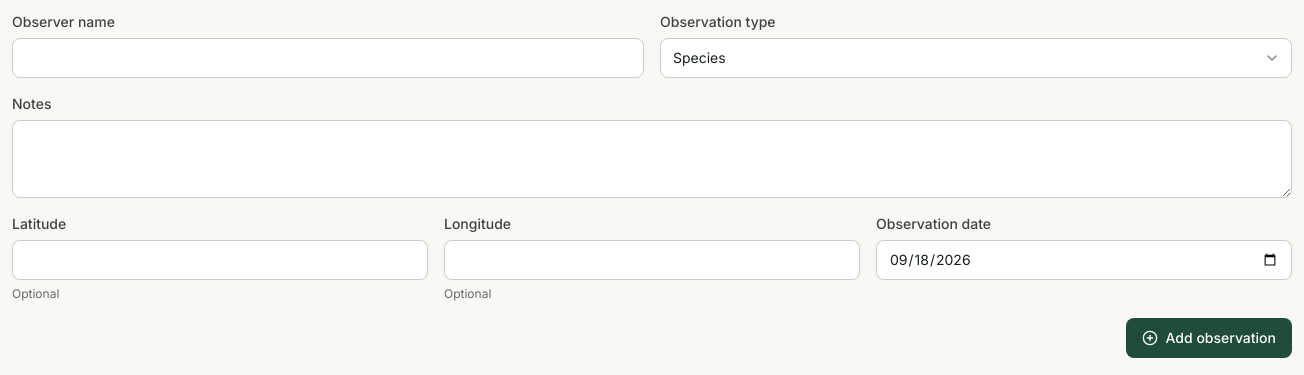
Scenario: ObservationForm validation › rejects an out-of-range latitude
Type "Aashritha" into the field labelled "Observer name" at (328, 58), box [12, 38, 644, 78]
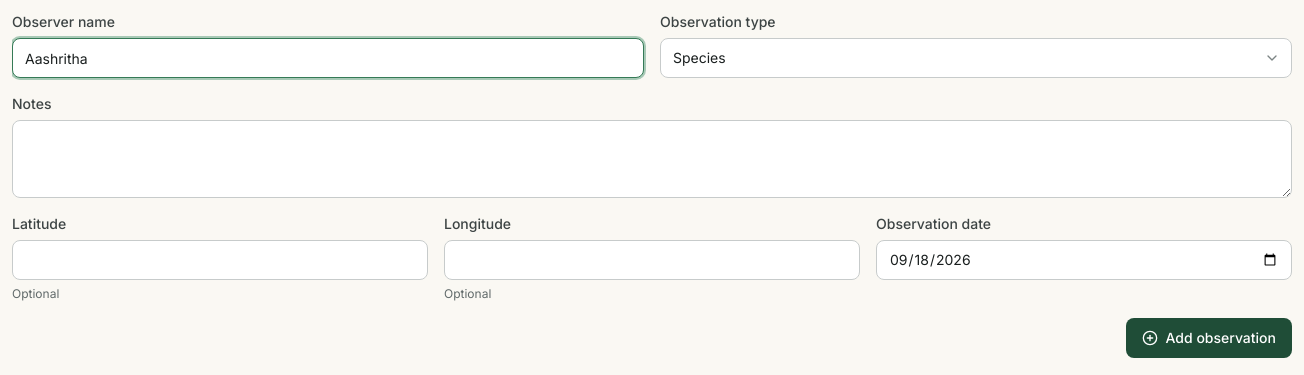
Type "Spotted a heron." into the text box labelled "Notes" at (652, 159), box [12, 120, 1292, 198]
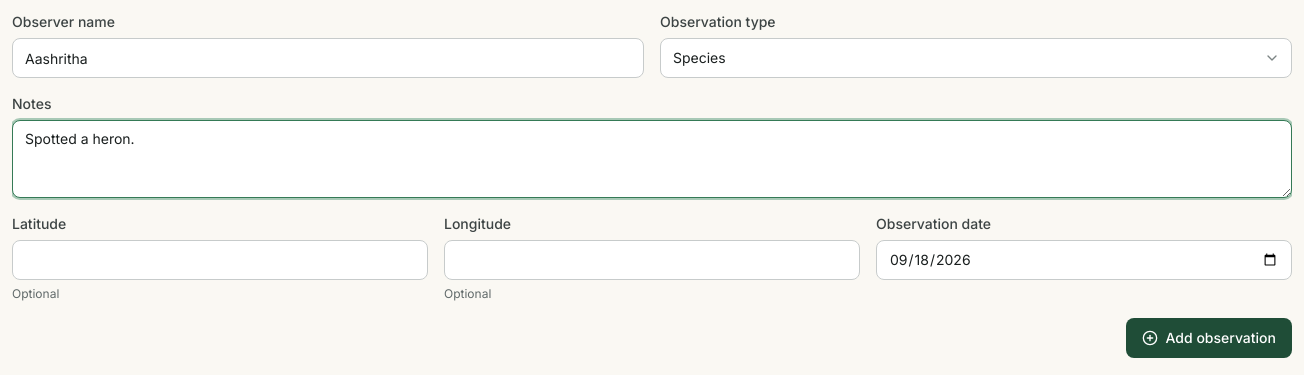
Type "200" into the field labelled "Latitude" at (220, 260), box [12, 240, 428, 280]
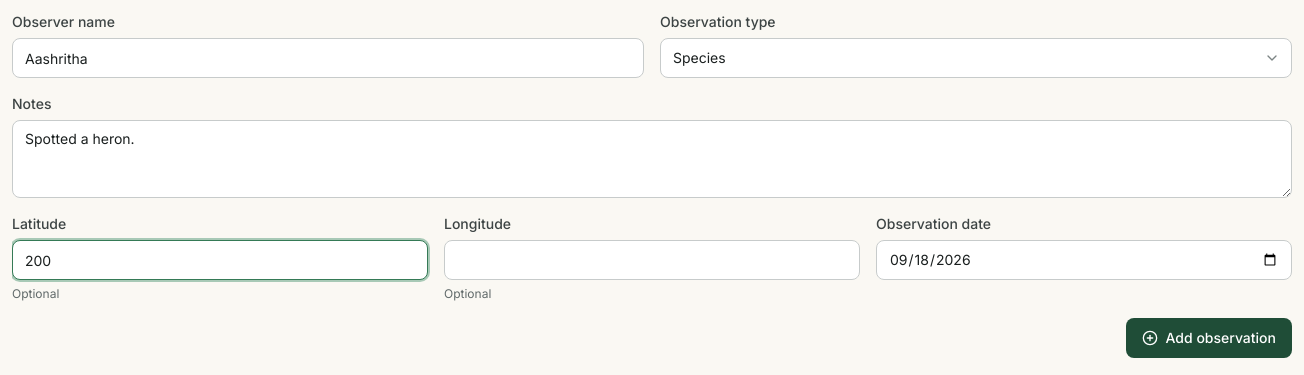
Click the button "Add observation" at (1209, 338), box [1126, 318, 1292, 358]
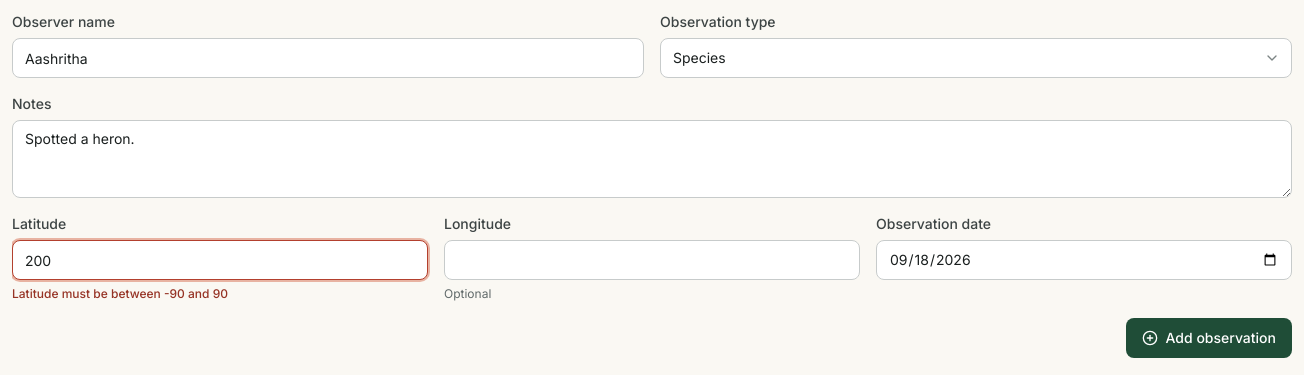
Result: the text "Latitude must be between -90 and 90" is shown at [12, 286, 228, 301]
